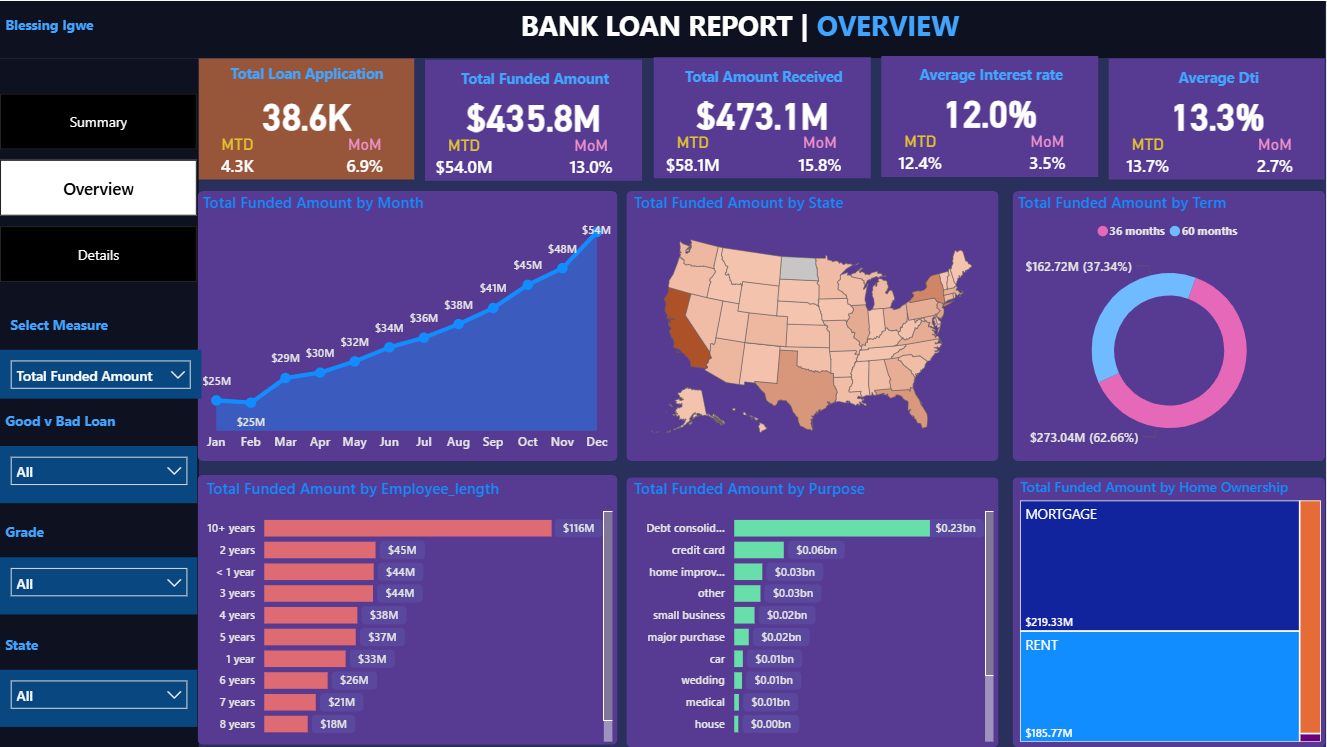

The page's visual inventory and layout, read from the dashboard file:
{"tool":"powerbi","page":{"name":"Overview","canvas":[1280,720],"ordinal":1},"visuals":[{"type":"shape","box":[0,0,1280.3,55],"z":0},{"type":"shape","box":[0,55.5,191.8,664.7],"z":1000},{"type":"textbox","box":[495.8,0,444,55.5],"z":2000},{"type":"shape","box":[850.2,53.1,209.4,117],"z":3000,"group":"g4"},{"type":"shape","box":[630.4,54.3,209.4,117],"z":3000,"group":"g3"},{"type":"group","id":"g1","title":"Group 1","box":[191.8,55.5,208.7,117],"z":3000},{"type":"shape","box":[191.8,55.5,208.2,117],"z":3000,"group":"g1"},{"type":"shape","box":[1070.1,55.5,209.4,117],"z":3000,"group":"g5"},{"type":"shape","box":[410.5,56.7,209.4,117],"z":3000,"group":"g2"},{"type":"group","id":"g2","title":"Group 1","box":[410.5,56.7,209.9,117],"z":4000},{"type":"card","fields":{"Values":["_Measures.Avg Interest Rate"]},"box":[850.2,85.7,209.9,42.2],"z":4000,"group":"g4"},{"type":"card","fields":{"Values":["_Measures.Total Amount Received"]},"box":[630.4,86.9,209.9,42.2],"z":4000,"group":"g3"},{"type":"card","fields":{"Values":["_Measures.Total Loan Applications"]},"box":[191.8,88.1,208.7,42.2],"z":4000,"group":"g1"},{"type":"card","fields":{"Values":["_Measures.Average Dti"]},"box":[1070.1,88.1,209.9,42.2],"z":4000,"group":"g5"},{"type":"card","fields":{"Values":["_Measures.Total Funded Amount"]},"box":[410.5,89.3,209.9,42.2],"z":4000,"group":"g2"},{"type":"group","id":"g3","title":"Group 1","box":[630.4,54.3,209.9,117],"z":5000},{"type":"textbox","box":[191.8,55.5,208.7,32.6],"z":5000,"group":"g1"},{"type":"textbox","box":[852.6,57.1,207.5,29],"z":5000,"group":"g4"},{"type":"textbox","box":[632.8,58.3,207.5,29],"z":5000,"group":"g3"},{"type":"textbox","box":[1072.5,59.5,207.5,29],"z":5000,"group":"g5"},{"type":"textbox","box":[412.9,60.7,207.5,29],"z":5000,"group":"g2"},{"type":"group","id":"g4","title":"Group 1","box":[850.2,53.1,209.9,117],"z":6000},{"type":"card","title":"MTD","fields":{"Values":["_Measures.MTD Avg Int Rate"]},"box":[850.2,126.7,75.1,43.4],"z":6000,"group":"g4"},{"type":"card","title":"MTD","fields":{"Values":["_Measures.MTD Amount Received"]},"box":[630.4,127.9,75.1,43.4],"z":6000,"group":"g3"},{"type":"card","title":"MTD","fields":{"Values":["_Measures.MTD Loan Applications"]},"box":[191.8,129.1,74.7,43.4],"z":6000,"group":"g1"},{"type":"card","title":"MTD","fields":{"Values":["_Measures.MTD Dti"]},"box":[1070.1,129.1,75.1,43.4],"z":6000,"group":"g5"},{"type":"card","title":"MTD","fields":{"Values":["_Measures.MTD Funded Amount"]},"box":[410.5,130.3,75.1,43.4],"z":6000,"group":"g2"},{"type":"group","id":"g5","title":"Group 1","box":[1070.1,55.5,209.9,117],"z":7000},{"type":"card","title":"MoM","fields":{"Values":["_Measures.Mom Avg Int"]},"box":[977.2,126.7,67.4,43.4],"z":7000,"group":"g4"},{"type":"card","title":"MoM","fields":{"Values":["_Measures.Mom Amount Received"]},"box":[757.4,127.9,67.4,43.4],"z":7000,"group":"g3"},{"type":"card","title":"MoM","fields":{"Values":["_Measures.Mom Loan Applications"]},"box":[318.1,129.1,67,43.4],"z":7000,"group":"g1"},{"type":"card","title":"MoM","fields":{"Values":["_Measures.Mom Dti"]},"box":[1197.1,129.1,67.4,43.4],"z":7000,"group":"g5"},{"type":"card","title":"MoM","fields":{"Values":["_Measures.Mom Amount Funded"]},"box":[537.5,130.3,67.4,43.4],"z":7000,"group":"g2"},{"type":"slicer","fields":{"Values":["financial_loan.address_state"]},"box":[0,645.4,190.6,55.5],"z":8000},{"type":"textbox","box":[0,606.8,56.7,38.6],"z":9000},{"type":"textbox","box":[0,498.3,65.1,38.6],"z":10000},{"type":"textbox","box":[0,390.9,139.9,38.6],"z":11000},{"type":"slicer","fields":{"Values":["financial_loan.Good v Bad Loan"]},"box":[0,429.5,190.6,55.5],"z":12000},{"type":"slicer","fields":{"Values":["financial_loan.grade"]},"box":[0,536.9,190.6,55.5],"z":13000},{"type":"textbox","box":[0,8.4,112.2,38.6],"z":14000},{"type":"shape","box":[190.6,183.4,405.4,260.6],"z":15000},{"type":"areaChart","fields":{"Y":["_Measures.Total Funded Amount"],"Category":["Date Table.Month"]},"box":[190.6,183.4,404.2,260.6],"z":16000},{"type":"slicer","fields":{"Values":["Select Measure.Select Measure"]},"box":[0,336.6,194.2,47.1],"z":17000},{"type":"textbox","box":[4.8,298,117,38.6],"z":18000},{"type":"shape","box":[604.4,183.4,359.5,260.6],"z":19000},{"type":"shapeMap","fields":{"Value":["_Measures.Total Funded Amount"],"Category":["financial_loan.address_state"]},"box":[606.8,183.4,353.5,260.6],"z":20000},{"type":"shape","box":[977.2,183.4,302.8,260.6],"z":21000},{"type":"donutChart","fields":{"Y":["_Measures.Total Funded Amount"],"Category":["financial_loan.term"]},"box":[977.2,183.4,302.8,260.6],"z":22000},{"type":"shape","box":[190.6,457.2,405.4,260.6],"z":23000},{"type":"barChart","fields":{"Y":["_Measures.Total Funded Amount"],"Category":["financial_loan.emp_length"]},"box":[194.2,459.7,401.7,260.6],"z":24000},{"type":"shape","box":[604.4,459.7,359.5,260.6],"z":25000},{"type":"barChart","fields":{"Y":["_Measures.Total Funded Amount"],"Category":["financial_loan.purpose"]},"box":[606.8,459.7,357.1,260.6],"z":26000},{"type":"shape","box":[977.2,459.7,302.8,260.6],"z":27000},{"type":"treemap","fields":{"Values":["_Measures.Total Funded Amount"],"Group":["financial_loan.home_ownership"]},"box":[979.6,459.7,300.4,260.6],"z":28000},{"type":"pageNavigator","box":[0,89.3,190.6,183.4],"z":29000}]}

Visuals, with their boxes on the page's 1280x720 design canvas (x1, y1, x2, y2). These are canvas units, not pixel positions in the 1327x747 screenshot, which may show the page scaled, cropped or inside an application window:
shape: detection(0, 0, 1280, 55)
shape: detection(0, 56, 192, 720)
textbox: detection(496, 0, 940, 56)
shape: detection(850, 53, 1060, 170)
shape: detection(630, 54, 840, 171)
"Group 1" group: detection(192, 56, 400, 172)
shape: detection(192, 56, 400, 172)
shape: detection(1070, 56, 1280, 172)
shape: detection(410, 57, 620, 174)
"Group 1" group: detection(410, 57, 620, 174)
card - _Measures.Avg Interest Rate: detection(850, 86, 1060, 128)
card - _Measures.Total Amount Received: detection(630, 87, 840, 129)
card - _Measures.Total Loan Applications: detection(192, 88, 400, 130)
card - _Measures.Average Dti: detection(1070, 88, 1280, 130)
card - _Measures.Total Funded Amount: detection(410, 89, 620, 132)
"Group 1" group: detection(630, 54, 840, 171)
textbox: detection(192, 56, 400, 88)
textbox: detection(853, 57, 1060, 86)
textbox: detection(633, 58, 840, 87)
textbox: detection(1072, 60, 1280, 88)
textbox: detection(413, 61, 620, 90)
"Group 1" group: detection(850, 53, 1060, 170)
"MTD" card: detection(850, 127, 925, 170)
"MTD" card: detection(630, 128, 706, 171)
"MTD" card: detection(192, 129, 266, 172)
"MTD" card: detection(1070, 129, 1145, 172)
"MTD" card: detection(410, 130, 486, 174)
"Group 1" group: detection(1070, 56, 1280, 172)
"MoM" card: detection(977, 127, 1045, 170)
"MoM" card: detection(757, 128, 825, 171)
"MoM" card: detection(318, 129, 385, 172)
"MoM" card: detection(1197, 129, 1264, 172)
"MoM" card: detection(538, 130, 605, 174)
slicer - financial_loan.address_state: detection(0, 645, 191, 701)
textbox: detection(0, 607, 57, 645)
textbox: detection(0, 498, 65, 537)
textbox: detection(0, 391, 140, 430)
slicer - financial_loan.Good v Bad Loan: detection(0, 430, 191, 485)
slicer - financial_loan.grade: detection(0, 537, 191, 592)
textbox: detection(0, 8, 112, 47)
shape: detection(191, 183, 596, 444)
areaChart - _Measures.Total Funded Amount x Date Table.Month: detection(191, 183, 595, 444)
slicer - Select Measure.Select Measure: detection(0, 337, 194, 384)
textbox: detection(5, 298, 122, 337)
shape: detection(604, 183, 964, 444)
shapeMap - _Measures.Total Funded Amount x financial_loan.address_state: detection(607, 183, 960, 444)
shape: detection(977, 183, 1280, 444)
donutChart - _Measures.Total Funded Amount x financial_loan.term: detection(977, 183, 1280, 444)
shape: detection(191, 457, 596, 718)
barChart - _Measures.Total Funded Amount x financial_loan.emp_length: detection(194, 460, 596, 720)
shape: detection(604, 460, 964, 720)
barChart - _Measures.Total Funded Amount x financial_loan.purpose: detection(607, 460, 964, 720)
shape: detection(977, 460, 1280, 720)
treemap - _Measures.Total Funded Amount x financial_loan.home_ownership: detection(980, 460, 1280, 720)
pageNavigator: detection(0, 89, 191, 273)
